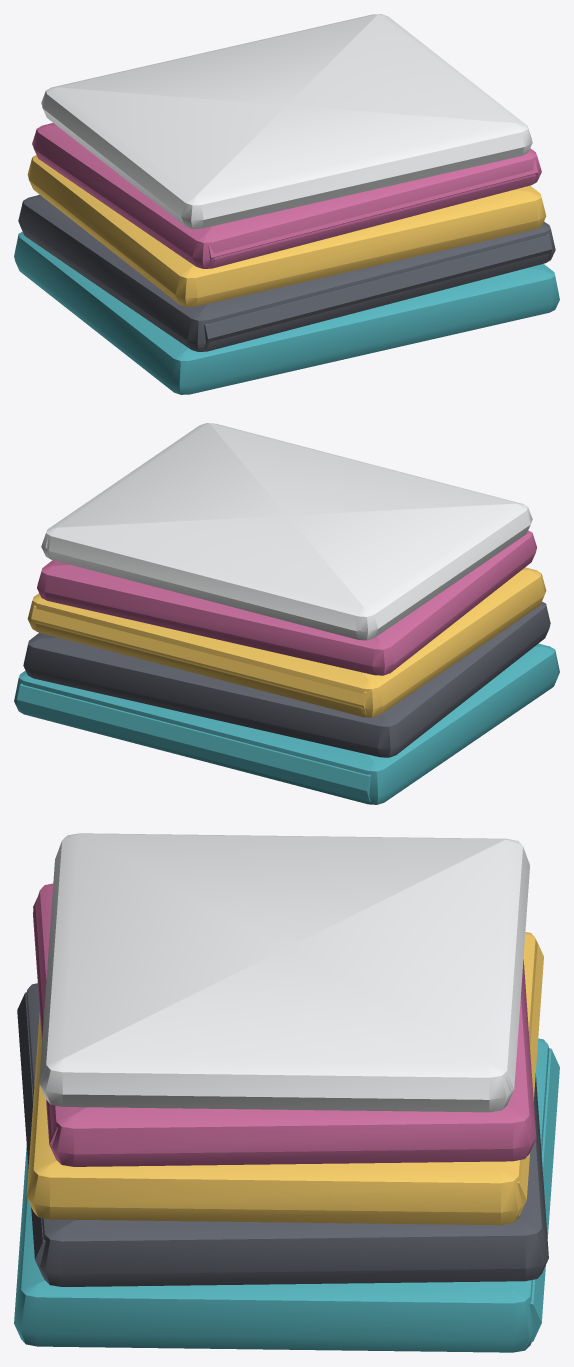
Rendered from snowboard-gear-and-freestyle-riders-folded-layer-stack-448b8e17__27167.glb.
The picture shows the model from 3 angles, top to bottom: view 1: azimuth 30°, elevation 25°; view 2: azimuth 150°, elevation 25°; view 3: azimuth 270°, elevation 25°; orthographic projection. The views are drawn at different scales.
Visible parts, largest first — view 1: folded-layer-stack; view 2: folded-layer-stack; view 3: folded-layer-stack.
Part boxes in pixels (x1,y1,x2,y2): folded-layer-stack: (14, 14, 559, 394); folded-layer-stack: (14, 423, 559, 804); folded-layer-stack: (14, 833, 559, 1352).
Bounding box in the file's own units: 0.3269 × 0.15 × 0.2711.
